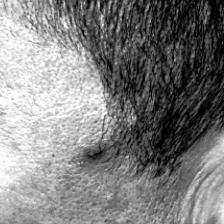Non-Cancerous Skin Condition: (5, 88, 136, 224)
